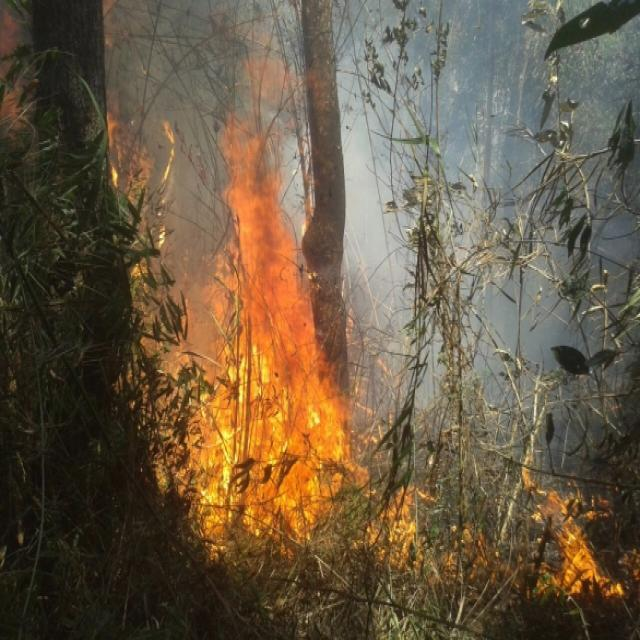Fire: (0, 6, 365, 548), (363, 428, 634, 588)
Smoke: (304, 0, 626, 446)
